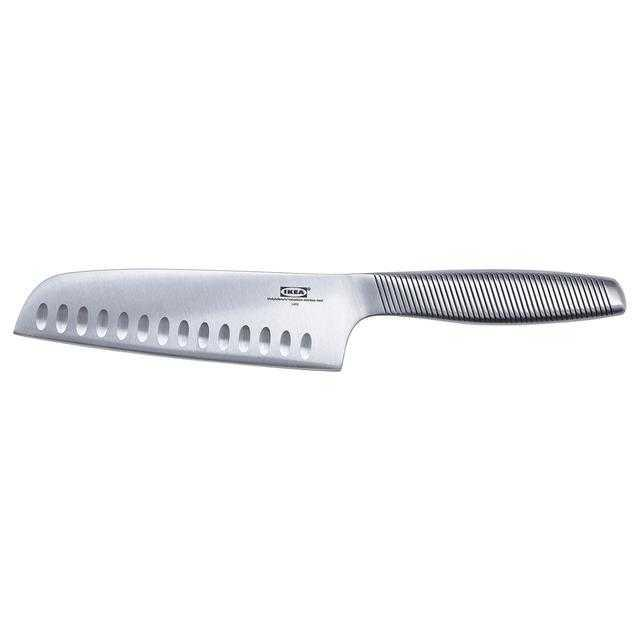Knife: (6, 259, 622, 388)
